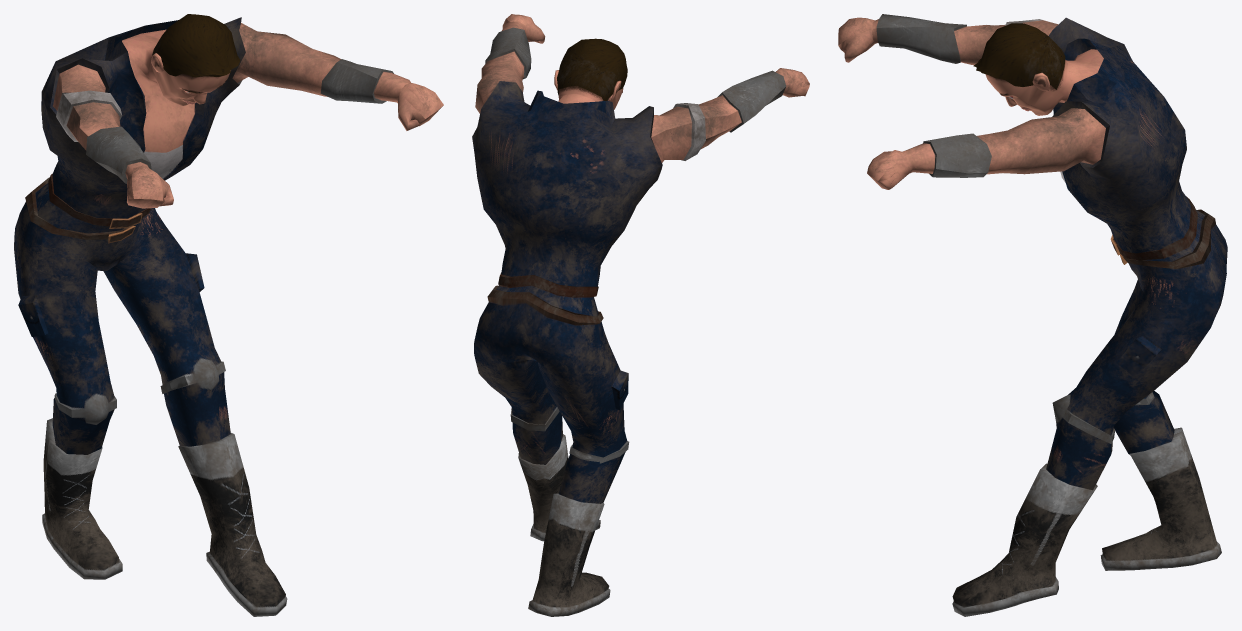
Rendered from Anim_ataque_d3_jugador.0043.obj.
3 renders of one model, left to right at view 1: azimuth 30°, elevation 25°; view 2: azimuth 150°, elevation 25°; view 3: azimuth 270°, elevation 25°, orthographic. The views are drawn at different scales.
Visible parts, largest first — view 1: polySurface1; view 2: polySurface1; view 3: polySurface1.
Boxes of the visible parts, left/top/right/bottom form: polySurface1: left=14, top=14, right=443, bottom=616; polySurface1: left=472, top=14, right=809, bottom=616; polySurface1: left=838, top=14, right=1227, bottom=616.
Size of the model in its own units: 5.04 by 8.5 by 5.31.
